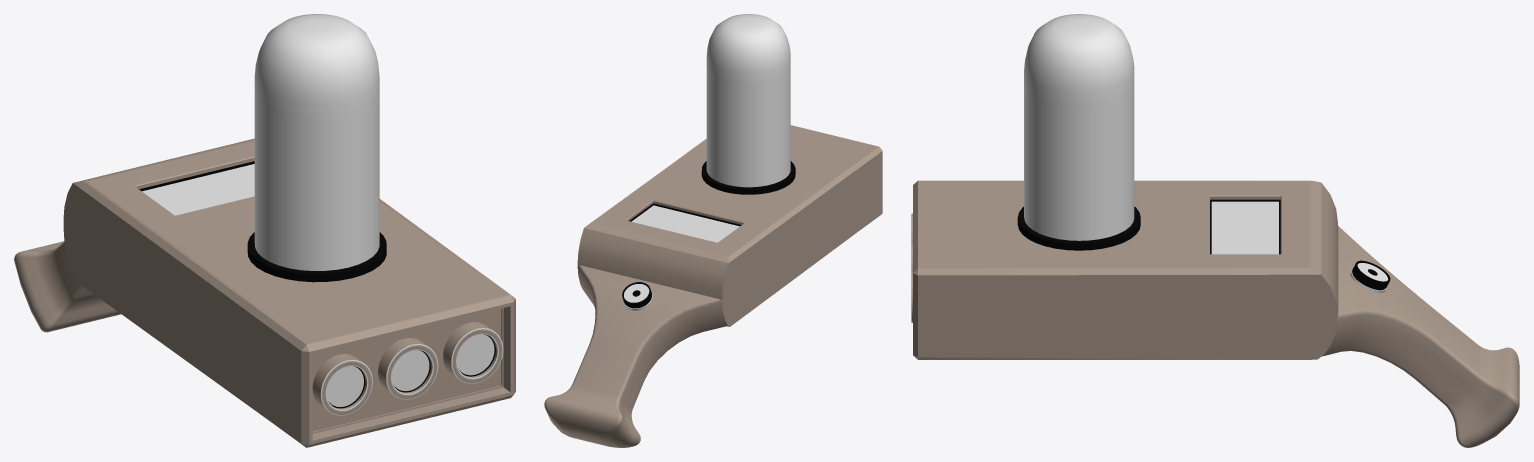
The model's file is portal-gun-rick-and-morty.dae.
3 renders of one model, left to right at view 1: azimuth 30°, elevation 25°; view 2: azimuth 150°, elevation 25°; view 3: azimuth 270°, elevation 25°, orthographic. The views are drawn at different scales.
Parts seen in each view (by area): view 1: Portal Gun Cycles; view 2: Portal Gun Cycles; view 3: Portal Gun Cycles.
Part boxes in pixels (box(x1,y1,x2,y2)): Portal Gun Cycles: box(14, 14, 515, 447); Portal Gun Cycles: box(544, 14, 882, 447); Portal Gun Cycles: box(911, 14, 1519, 447).
Size of the model in its own units: 1.1 by 3.05 by 2.23.
